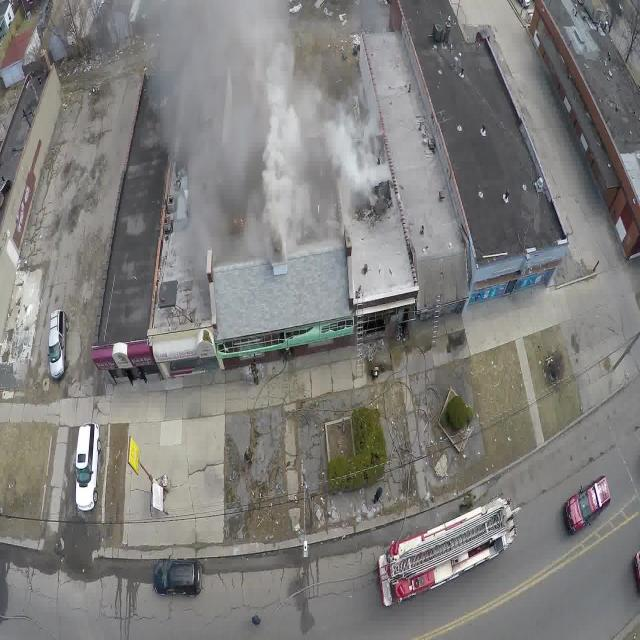Smoke: (136, 0, 376, 242)
